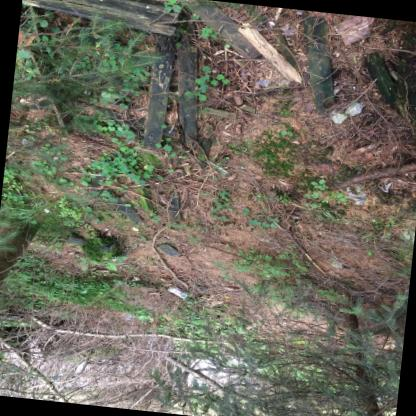Metal: (165, 282, 186, 297)
Waste: (205, 158, 226, 173)
